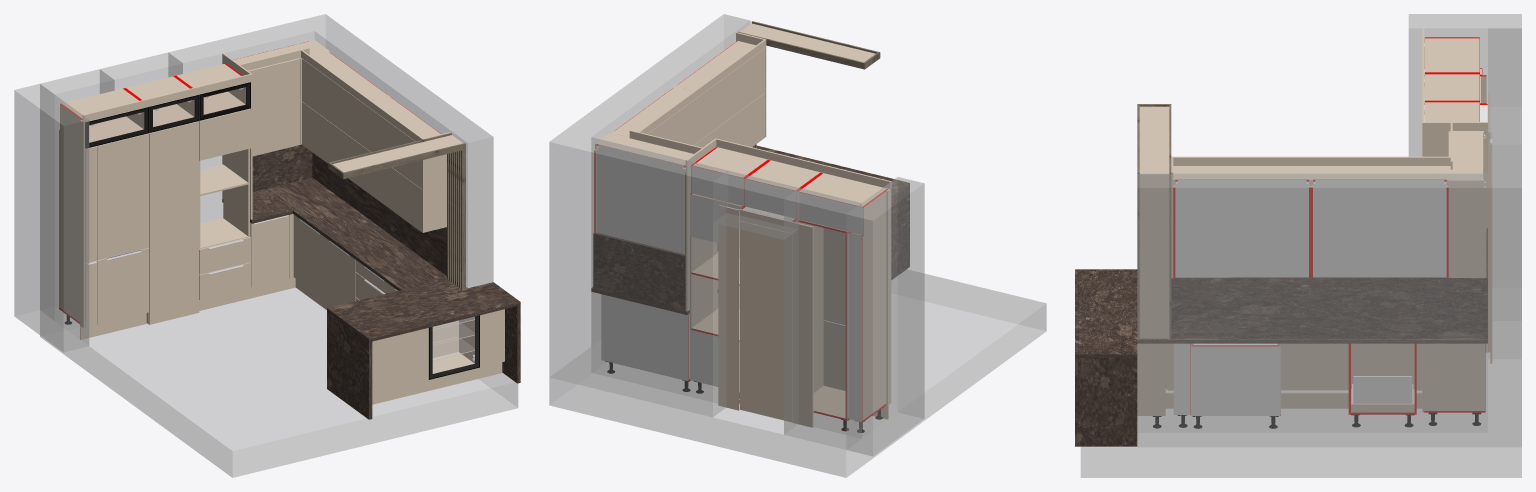
3 renders of one model, left to right at view 1: azimuth 30°, elevation 25°; view 2: azimuth 150°, elevation 25°; view 3: azimuth 270°, elevation 25°, orthographic. The views are drawn at different scales.
Parts seen in each view (by area): view 1: Layer_object 453, Layer_object 457, Layer_object 455, object 82, Layer_object 197, Layer_object 198, object 138, Layer_object 454, Bal oldal 91, Layer_object 201, Layer_object 204, object 137 (+52 smaller); view 2: Layer_object 455, Layer_object 453, Layer_object 457, Layer_object 454, object 83, object 136, object 129, Layer_object 202, Layer_object 456, Bal oldal 91, Layer_object 222, Layer_object 223 (+32 smaller); view 3: Layer_object 455, Layer_object 453, Layer_object 201, HL 183, HL 148, HL 24, Layer_object 198, Layer_object 457, Layer_object 205, HL 158, Jobb oldal 4, Jobb oldal 135 (+24 smaller).
Boxes of the visible parts, x1=… form: Layer_object 453: x1=40, y1=287, x2=518, y2=477; Layer_object 457: x1=14, y1=84, x2=89, y2=352; Layer_object 455: x1=168, y1=14, x2=493, y2=287; object 82: x1=148, y1=121, x2=199, y2=324; Layer_object 197: x1=265, y1=177, x2=446, y2=290; Layer_object 198: x1=327, y1=279, x2=520, y2=342; object 138: x1=97, y1=133, x2=148, y2=260; Layer_object 454: x1=40, y1=69, x2=114, y2=320; Bal oldal 91: x1=59, y1=130, x2=79, y2=322; Layer_object 201: x1=312, y1=152, x2=446, y2=275; Layer_object 204: x1=327, y1=312, x2=372, y2=419; object 137: x1=97, y1=248, x2=148, y2=324; Layer_object 455: x1=549, y1=14, x2=750, y2=417; Layer_object 453: x1=549, y1=269, x2=1046, y2=477; Layer_object 457: x1=846, y1=177, x2=924, y2=456; Layer_object 454: x1=784, y1=188, x2=861, y2=449; object 83: x1=740, y1=221, x2=792, y2=422; object 136: x1=596, y1=144, x2=685, y2=253; object 129: x1=601, y1=294, x2=688, y2=380; Layer_object 202: x1=594, y1=233, x2=685, y2=310; Layer_object 456: x1=713, y1=170, x2=799, y2=239; Bal oldal 91: x1=862, y1=219, x2=886, y2=419; Layer_object 222: x1=718, y1=205, x2=739, y2=410; Layer_object 223: x1=792, y1=222, x2=813, y2=427; Layer_object 455: x1=1137, y1=100, x2=1521, y2=447; Layer_object 453: x1=1080, y1=321, x2=1521, y2=477; Layer_object 201: x1=1171, y1=277, x2=1487, y2=338; HL 183: x1=1175, y1=179, x2=1309, y2=277; HL 148: x1=1312, y1=179, x2=1446, y2=277; HL 24: x1=1190, y1=346, x2=1280, y2=415; Layer_object 198: x1=1075, y1=269, x2=1171, y2=357; Layer_object 457: x1=1408, y1=14, x2=1521, y2=156; Layer_object 205: x1=1075, y1=358, x2=1137, y2=446; HL 158: x1=1139, y1=173, x2=1169, y2=338; Jobb oldal 4: x1=1424, y1=343, x2=1485, y2=410; Jobb oldal 135: x1=1450, y1=180, x2=1485, y2=277.
Size of the model in its own units: 3640 by 2830 by 3950.
Materials: 12 (3 with a texture image).
